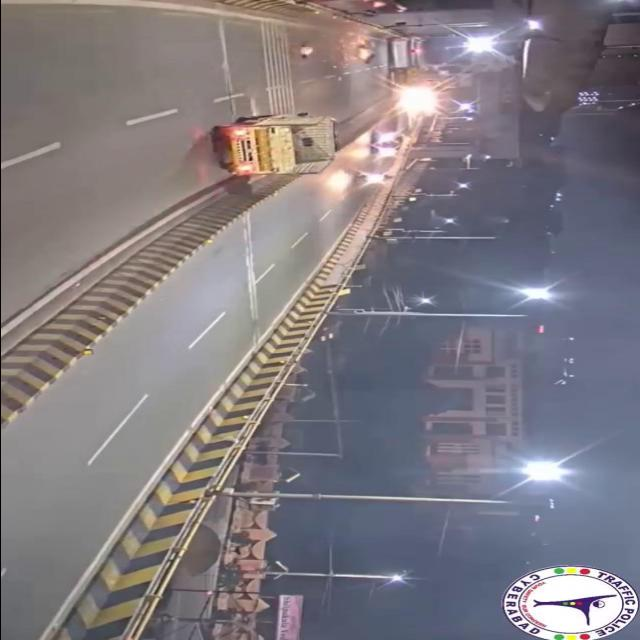accident: (342, 28, 379, 67)
